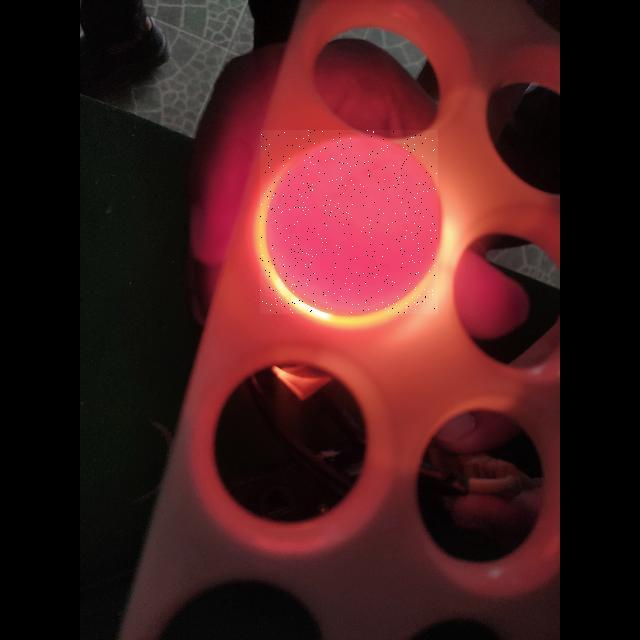Infertile: (260, 130, 438, 314)
